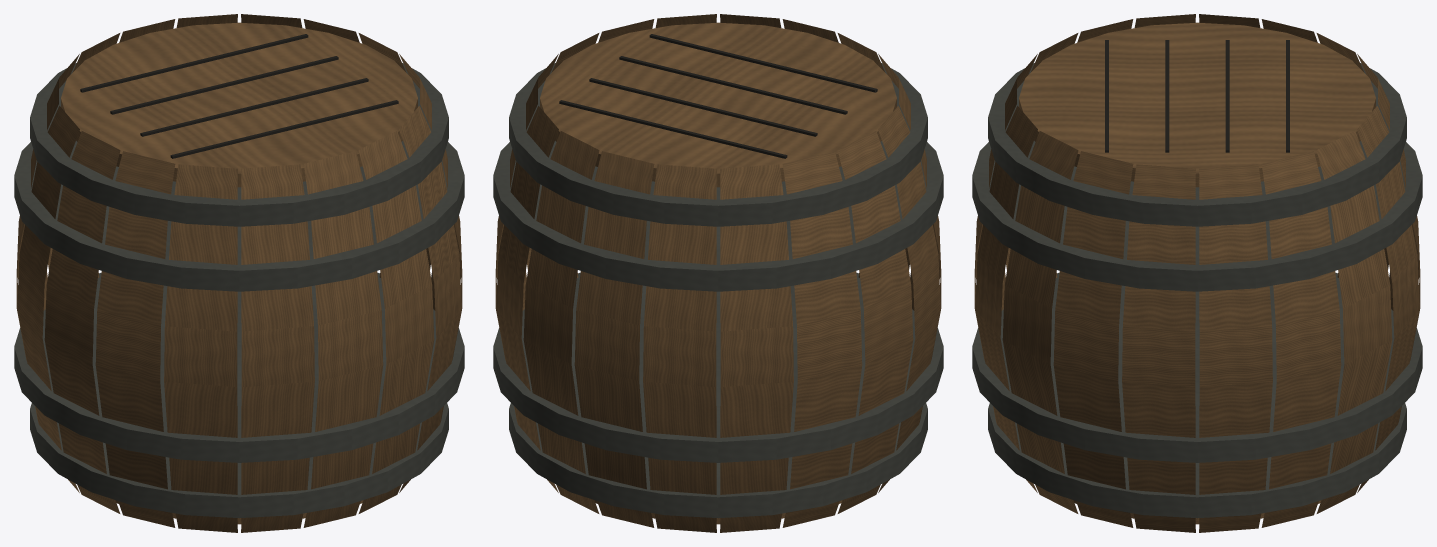
File: wine-barrel.glb
3 renders of one model, left to right at view 1: azimuth 30°, elevation 25°; view 2: azimuth 150°, elevation 25°; view 3: azimuth 270°, elevation 25°, orthographic.
Visible parts, largest first — view 1: wine-barrel; view 2: wine-barrel; view 3: wine-barrel.
Boxes of the visible parts, x1=… form: wine-barrel: x1=14, y1=14, x2=464, y2=532; wine-barrel: x1=493, y1=14, x2=943, y2=532; wine-barrel: x1=972, y1=14, x2=1422, y2=532.
Size of the model in its own units: 0.9 by 0.8 by 0.897.
Materials: 1 (1 with a texture image).
